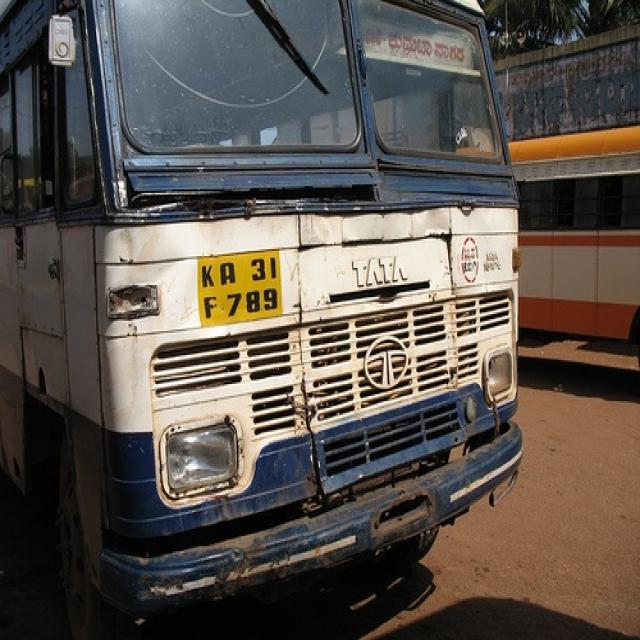bus: (3, 1, 522, 636), (507, 125, 639, 367)
